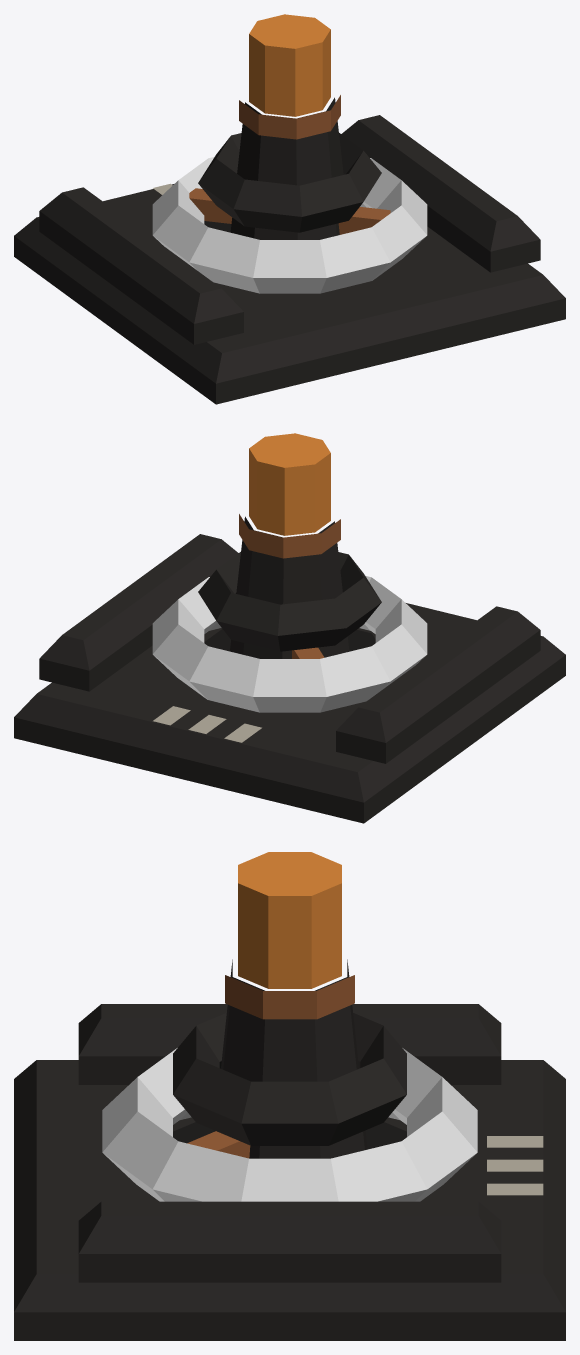
Rendered from str_t3_mex.8d916d03.raw.glb.
The picture shows the model from 3 angles, top to bottom: view 1: azimuth 30°, elevation 25°; view 2: azimuth 150°, elevation 25°; view 3: azimuth 270°, elevation 25°; orthographic projection. The views are drawn at different scales.
Parts seen in each view (by area): view 1: lod0; view 2: lod0; view 3: lod0.
Part boxes in pixels (bbox=[...]): lod0: bbox=[14, 14, 565, 404]; lod0: bbox=[14, 433, 565, 823]; lod0: bbox=[14, 852, 565, 1340].
Size of what is drawn, in the model's own units: 1.96 by 1.37 by 1.96.
